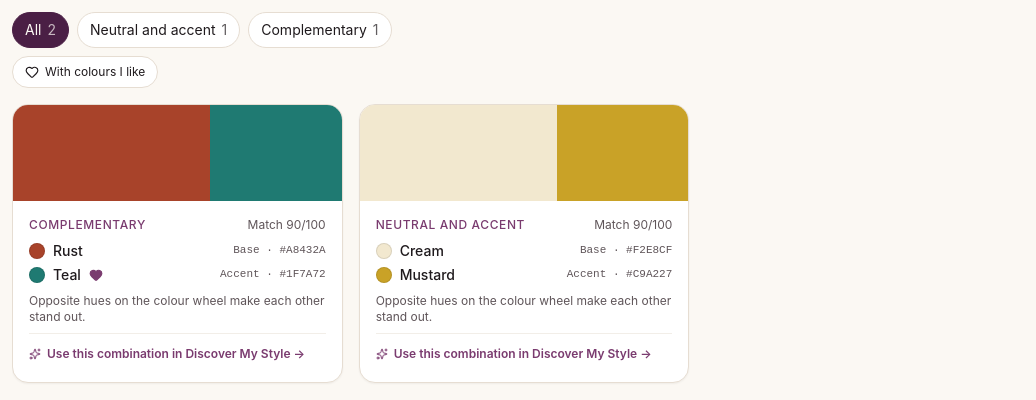
CombinationGallery › filters by harmony and by liked colours
Click the button "Neutral and accent 1".
click(159, 30)  # box [77,12,240,48]
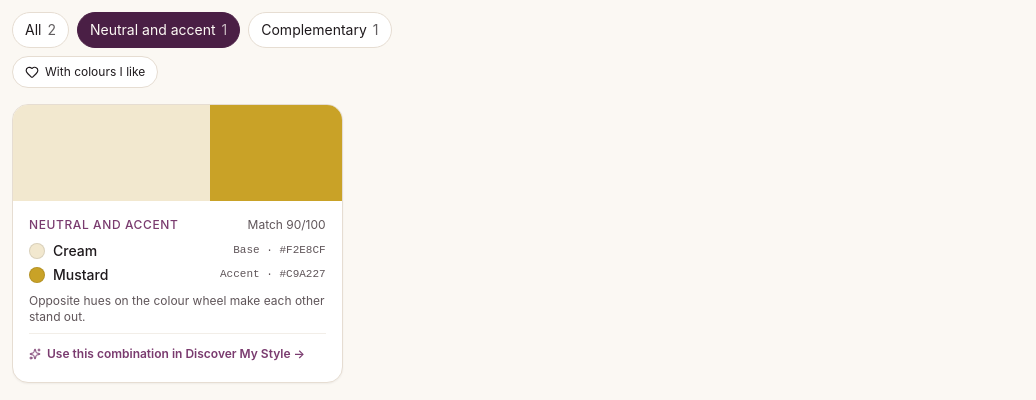
Expected: the element named "Cream, Mustard" is shown, [12,104,343,383]
Click the button "With colours I like".
click(85, 72)  # box [12,56,158,88]
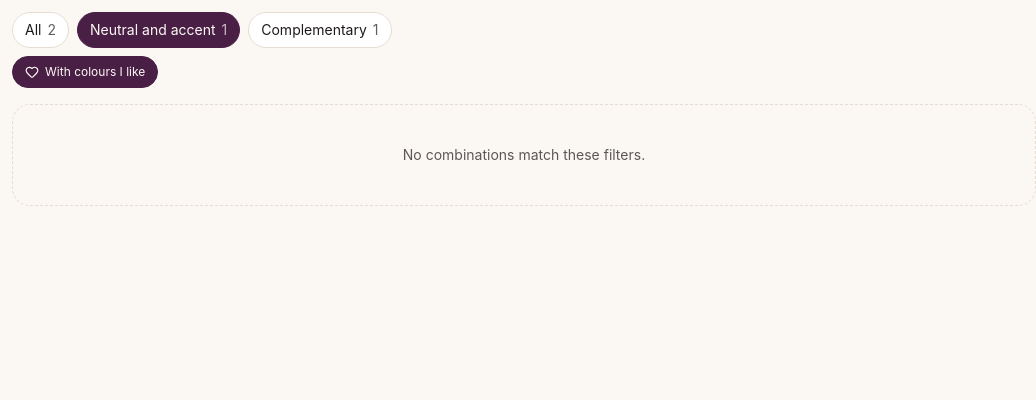
Result: the text "No combinations match these filters." is shown at [12,104,1035,206]
